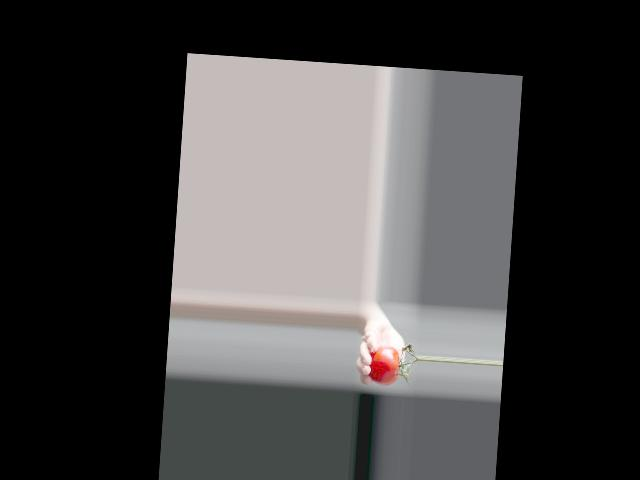tomato: (367, 344, 401, 386)
